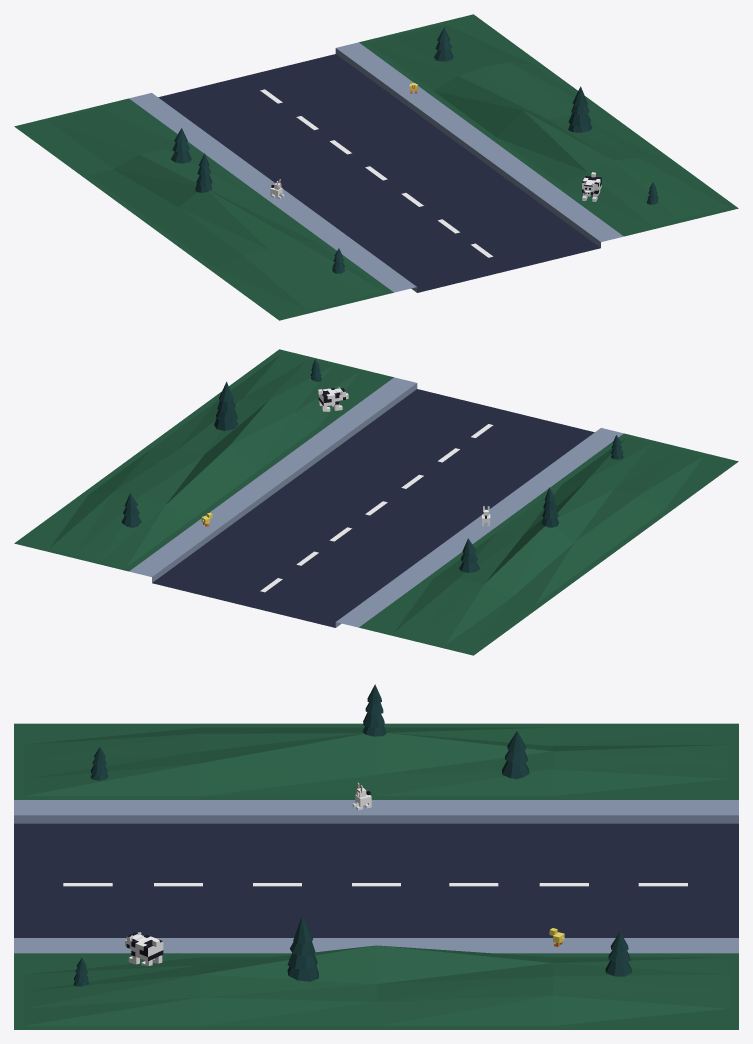
The model's file is Road3.fbx.
The picture shows the model from 3 angles, top to bottom: view 1: azimuth 30°, elevation 25°; view 2: azimuth 150°, elevation 25°; view 3: azimuth 270°, elevation 25°; orthographic projection. The views are drawn at different scales.
Parts seen in each view (by area): view 1: Road3; view 2: Road3; view 3: Road3.
Part boxes in pixels (x1,y1,x2,y2): Road3: [14, 14, 738, 320]; Road3: [14, 349, 738, 655]; Road3: [14, 684, 738, 1029].
Size of the model in its own units: 20 by 2.67 by 20.
